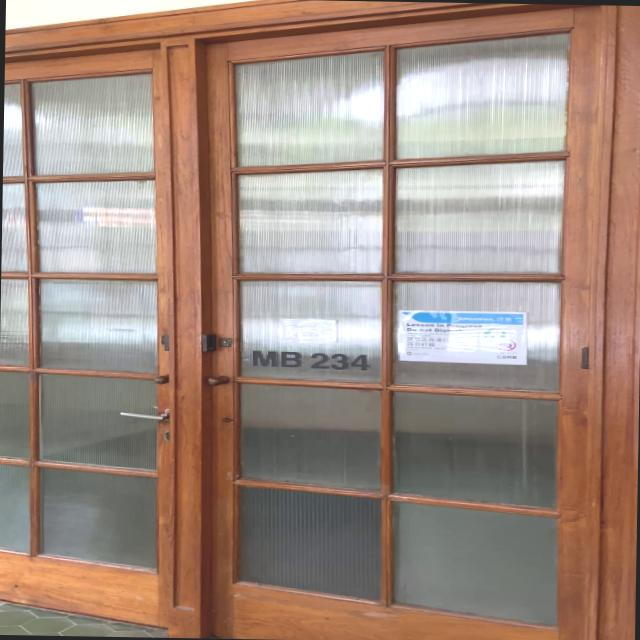room234Window: (239, 342, 376, 374)
